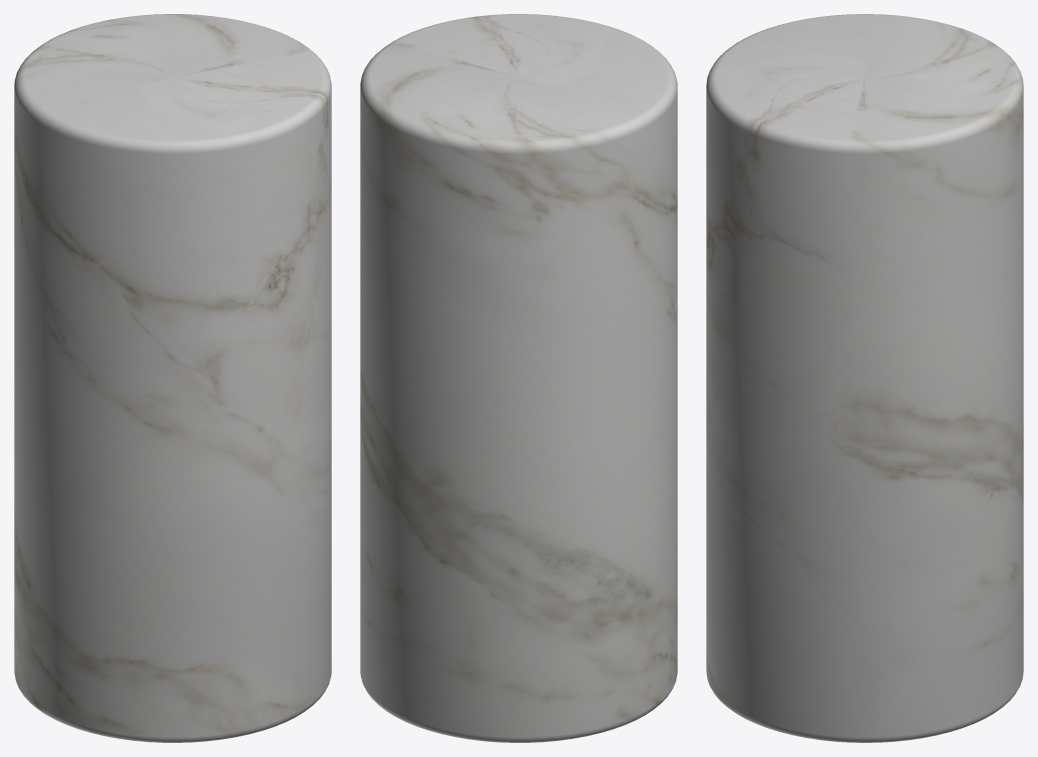
3 renders of one model, left to right at view 1: azimuth 30°, elevation 25°; view 2: azimuth 150°, elevation 25°; view 3: azimuth 270°, elevation 25°, orthographic.
Parts seen in each view (by area): view 1: base; view 2: base; view 3: base.
Part boxes in pixels (x1=…): base: x1=14, y1=14, x2=331, y2=742; base: x1=360, y1=14, x2=677, y2=742; base: x1=706, y1=14, x2=1023, y2=742.
Bounding box in the file's own units: 0.1045 × 0.2183 × 0.1045.
Materials: 1 (1 with a texture image).
